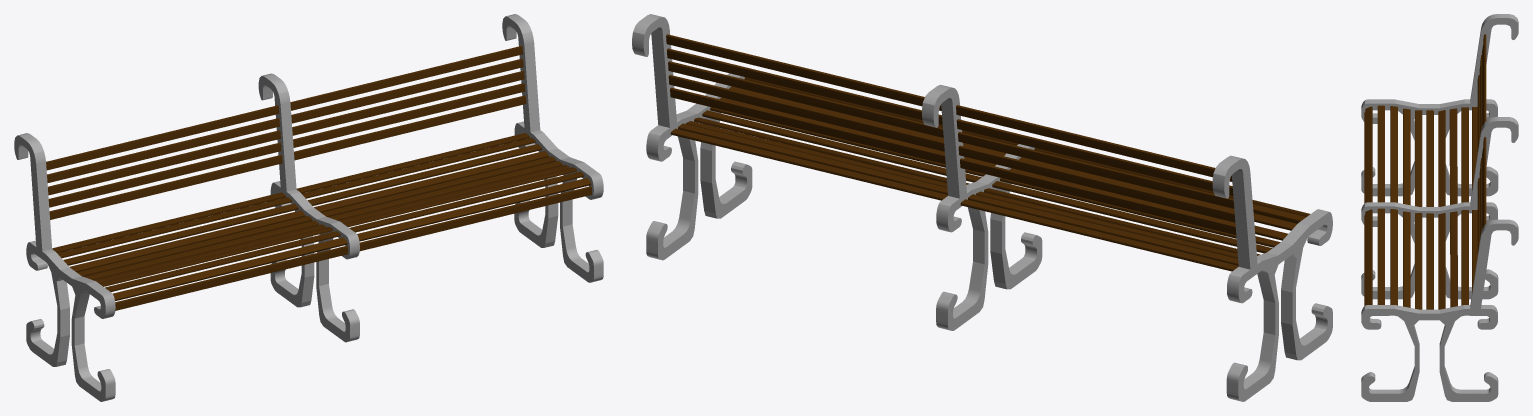
File: Park Bench.fbx
3 views of the same model, side by side, from view 1: azimuth 30°, elevation 25°; view 2: azimuth 150°, elevation 25°; view 3: azimuth 270°, elevation 25° (orthographic). The views are drawn at different scales.
Parts seen in each view (by area): view 1: polySurface15, pCube19, pCube17, pCube20; view 2: polySurface15, pCube19, pCube17, pCube20; view 3: polySurface15, pCube17, pCube20, pCube19.
Part boxes in pixels (left/top/right/bottom): polySurface15: left=46, top=46, right=591, bottom=310; pCube19: left=14, top=133, right=115, bottom=401; pCube17: left=502, top=14, right=603, bottom=282; pCube20: left=258, top=73, right=359, bottom=342; polySurface15: left=666, top=34, right=1310, bottom=271; pCube19: left=1212, top=155, right=1332, bottom=401; pCube17: left=632, top=14, right=752, bottom=260; pCube20: left=922, top=84, right=1042, bottom=330; polySurface15: left=1364, top=34, right=1486, bottom=309; pCube17: left=1361, top=219, right=1518, bottom=401; pCube20: left=1361, top=117, right=1518, bottom=299; pCube19: left=1361, top=14, right=1518, bottom=196.
Size of the model in its own units: 2.05 by 0.8122 by 0.6508.
